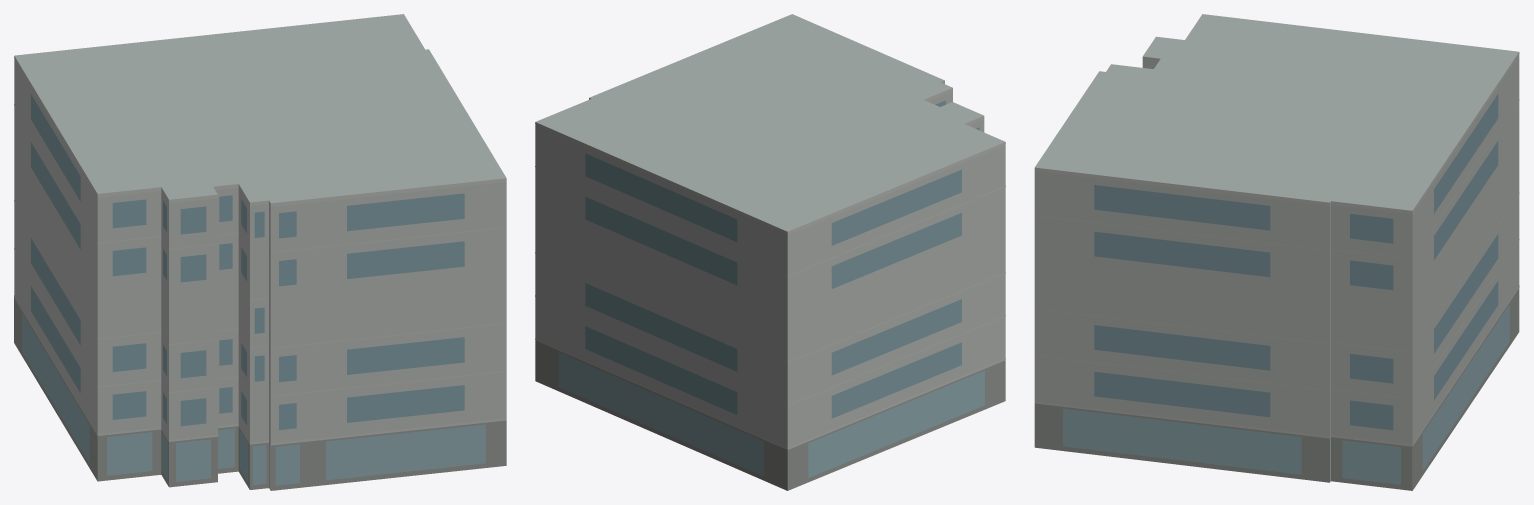
File: survey-upis-32942422.glb
The picture shows the model from 3 angles, left to right: view 1: azimuth 30°, elevation 25°; view 2: azimuth 150°, elevation 25°; view 3: azimuth 270°, elevation 25°; orthographic projection. The views are drawn at different scales.
Visible parts, largest first — view 1: survey-upis-32942422.tmp; view 2: survey-upis-32942422.tmp; view 3: survey-upis-32942422.tmp.
Part boxes in pixels (x1,y1,x2,y2): survey-upis-32942422.tmp: [14, 14, 506, 490]; survey-upis-32942422.tmp: [535, 14, 1005, 490]; survey-upis-32942422.tmp: [1034, 14, 1519, 490].
Bounding box in the file's own units: 27.61 × 18.3 × 28.73.
